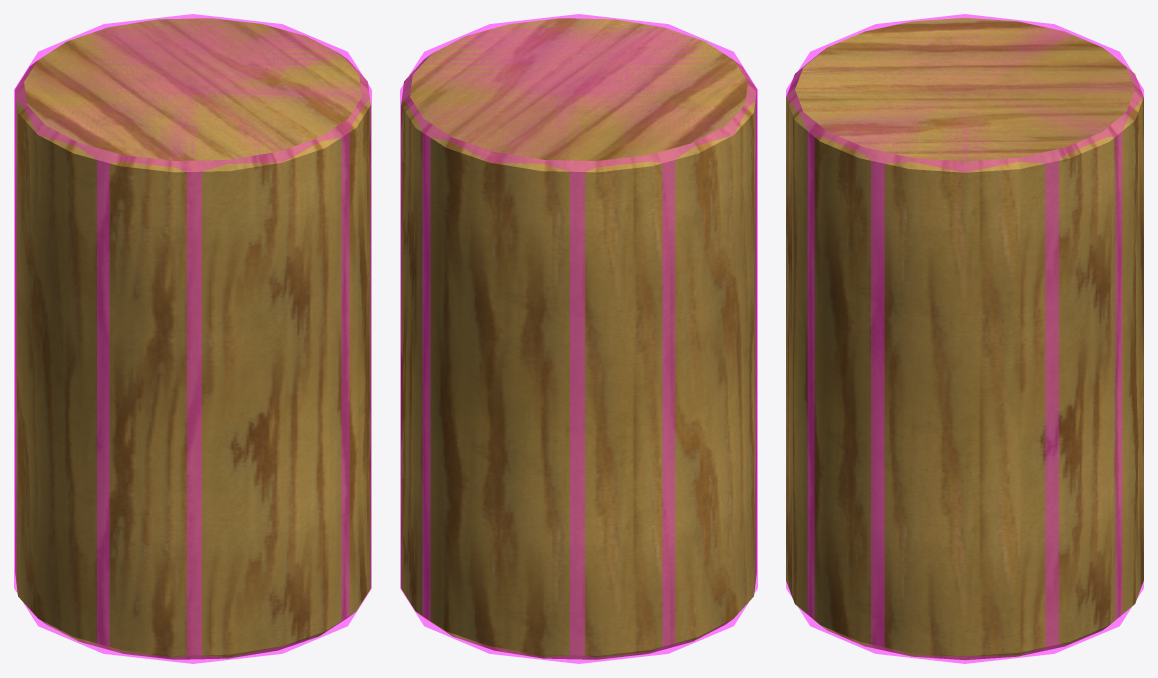
File: tumiki_A.fbx
3 renders of one model, left to right at view 1: azimuth 30°, elevation 25°; view 2: azimuth 150°, elevation 25°; view 3: azimuth 270°, elevation 25°, orthographic.
Parts seen in each view (by area): view 1: tumiki_A, boundingbox; view 2: tumiki_A, boundingbox; view 3: tumiki_A, boundingbox.
Part boxes in pixels (left/top/right/bottom): tumiki_A: left=15, top=18, right=370, bottom=659; boundingbox: left=14, top=14, right=371, bottom=663; tumiki_A: left=401, top=18, right=756, bottom=659; boundingbox: left=400, top=14, right=757, bottom=663; tumiki_A: left=786, top=17, right=1143, bottom=660; boundingbox: left=786, top=14, right=1143, bottom=663.
Size of the model in its own units: 2.6 by 4 by 2.6.
Materials: 2 (1 with a texture image).
